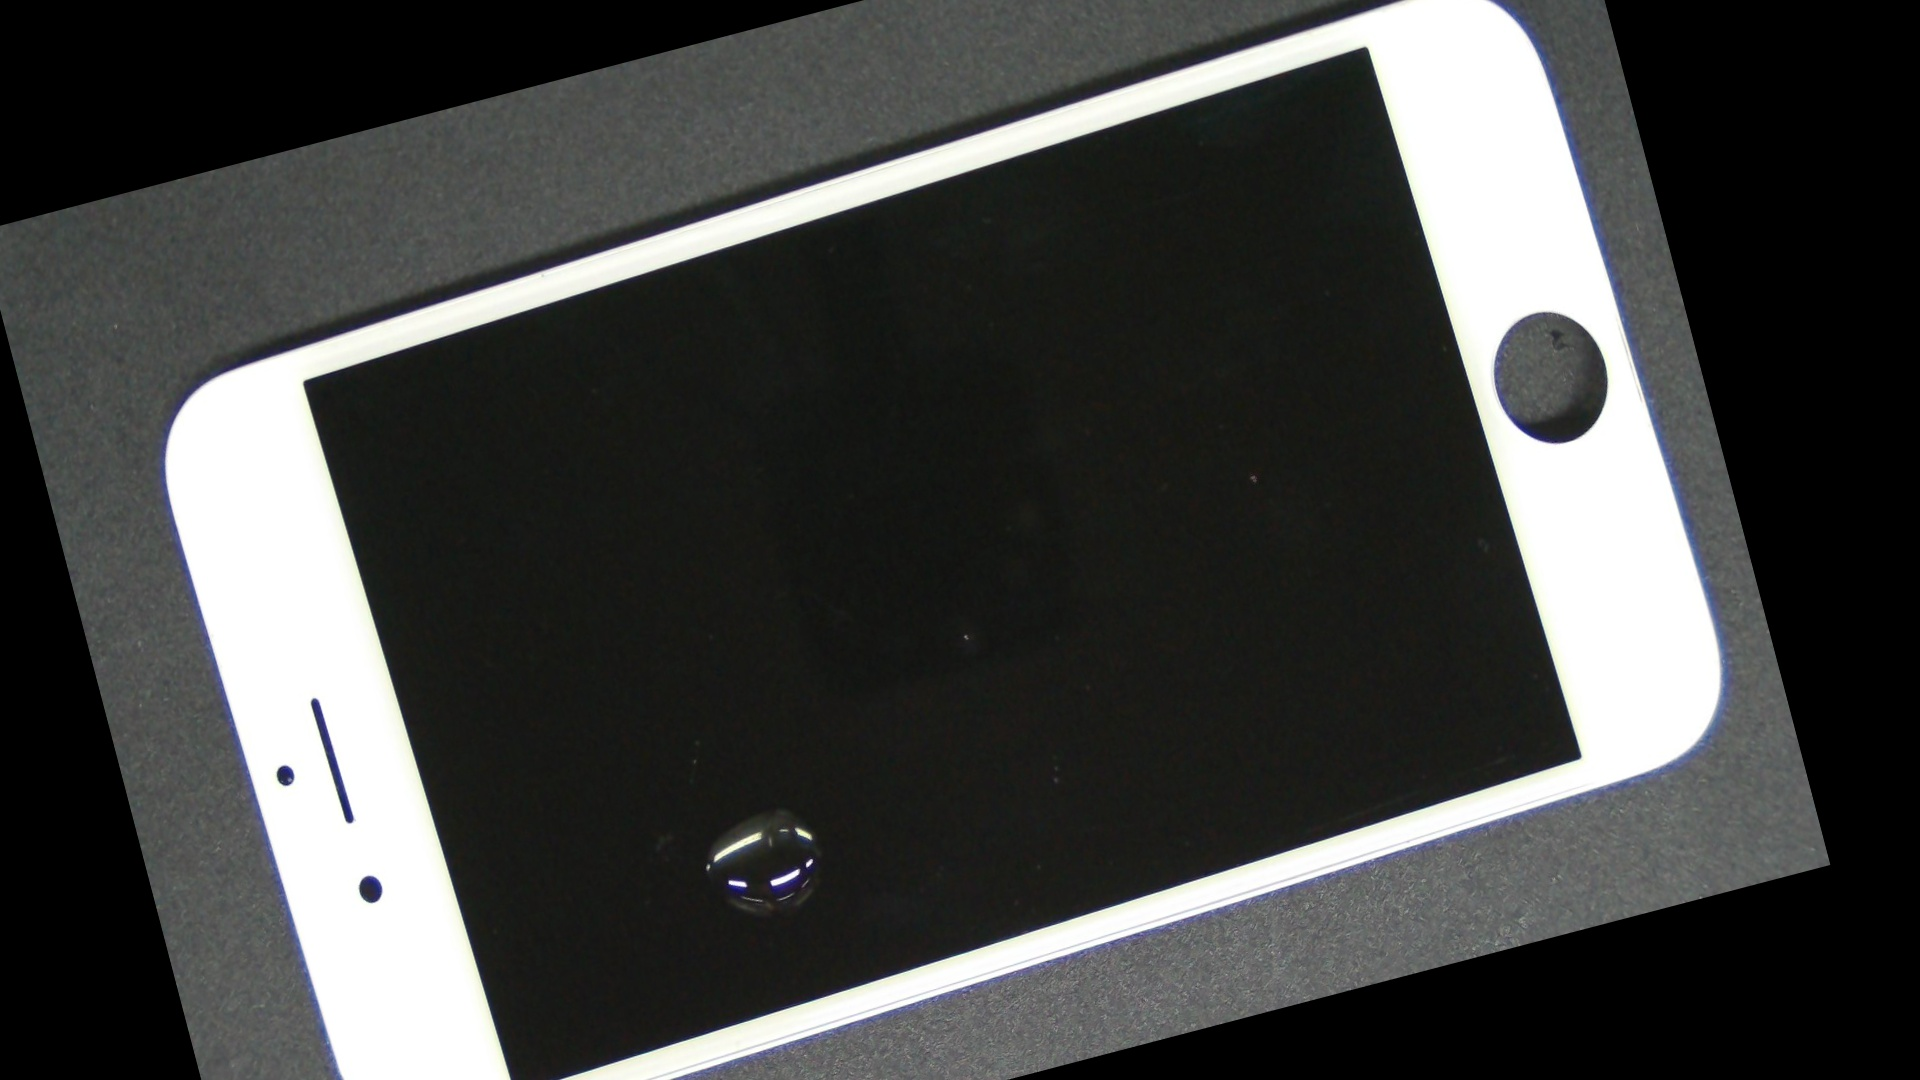oil: (372, 367, 1139, 1080)
